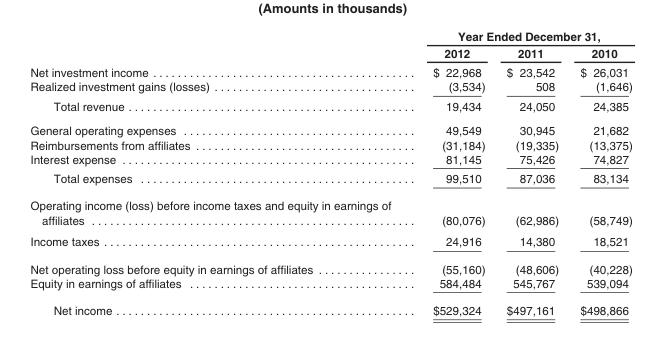table: (29, 28, 631, 316)
table column: (29, 28, 411, 316), (411, 28, 495, 316), (495, 28, 568, 316), (568, 28, 631, 316)
table column header: (29, 28, 631, 62)
table row: (29, 191, 631, 230), (29, 230, 631, 254), (29, 168, 631, 191), (29, 96, 631, 118), (29, 254, 631, 275), (29, 275, 631, 296), (29, 296, 631, 316), (29, 118, 631, 137), (29, 44, 631, 62), (29, 62, 631, 79), (29, 79, 631, 96), (29, 151, 631, 168), (29, 28, 631, 44), (29, 137, 631, 151)
table spanning cell: (411, 28, 631, 44)
